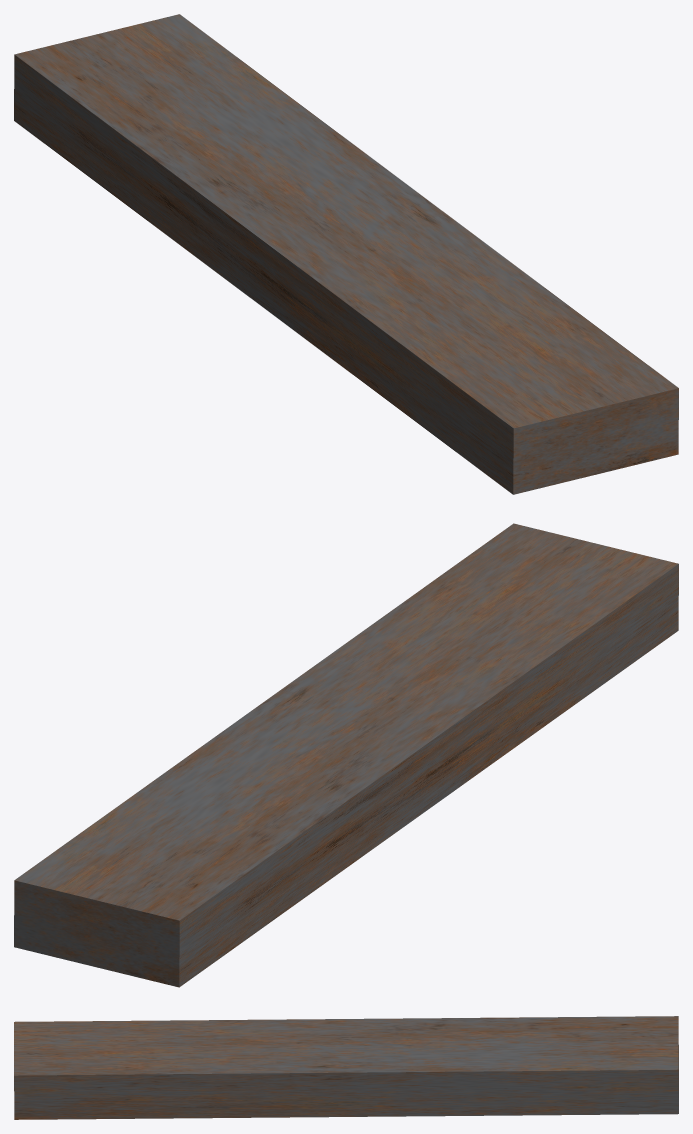
Rendered from Lampada.fbx.
3 views of the same model, one above another, from view 1: azimuth 30°, elevation 25°; view 2: azimuth 150°, elevation 25°; view 3: azimuth 270°, elevation 25° (orthographic). The views are drawn at different scales.
Parts seen in each view (by area): view 1: Cube; view 2: Cube; view 3: Cube.
Boxes of the visible parts, x1,y1,x2,y2 form: Cube: (14,14,678,494); Cube: (14,523,678,987); Cube: (14,1016,678,1119).
Size of the model in its own units: 38.24 by 16.62 by 200.
2 materials, 1 textured.
